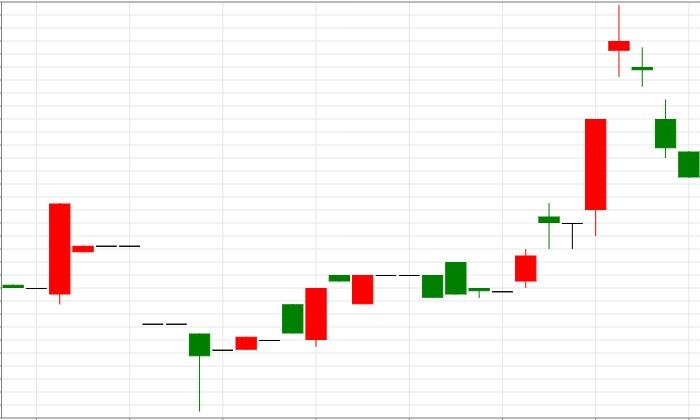hammer_rise: (49, 203, 210, 412)
